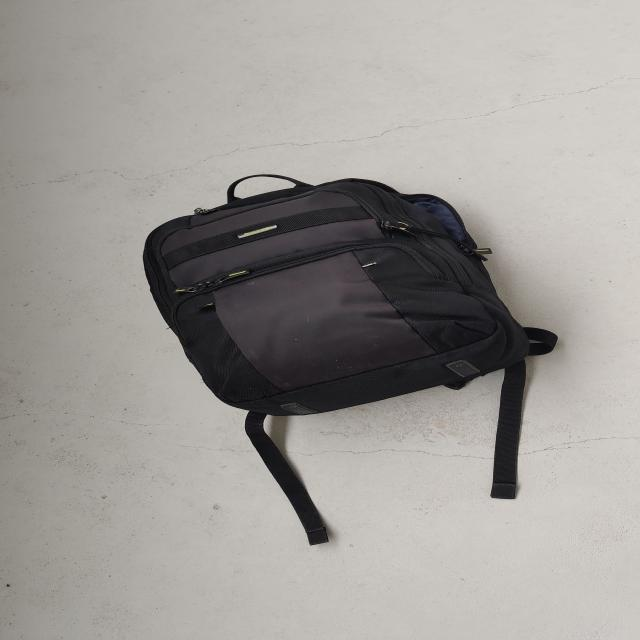backpack: (127, 167, 544, 426)
